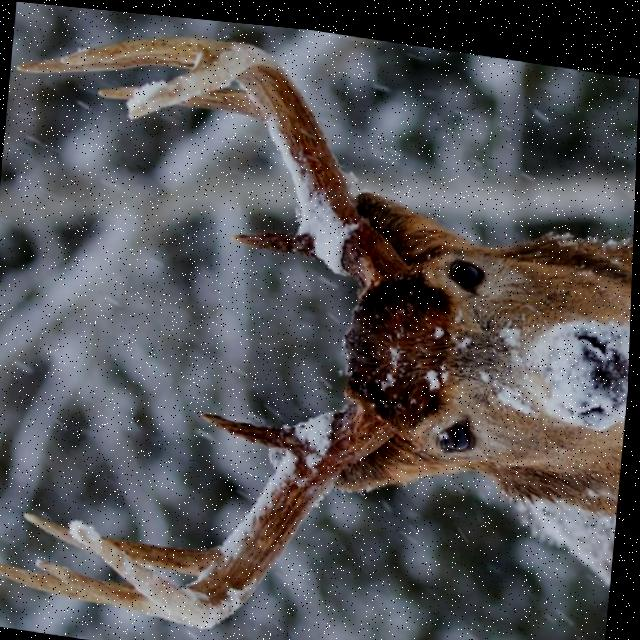L-F: (127, 35, 414, 293)
L-G1: (233, 223, 325, 254)
R-F: (79, 369, 398, 625)
R-G1: (204, 407, 307, 446)
